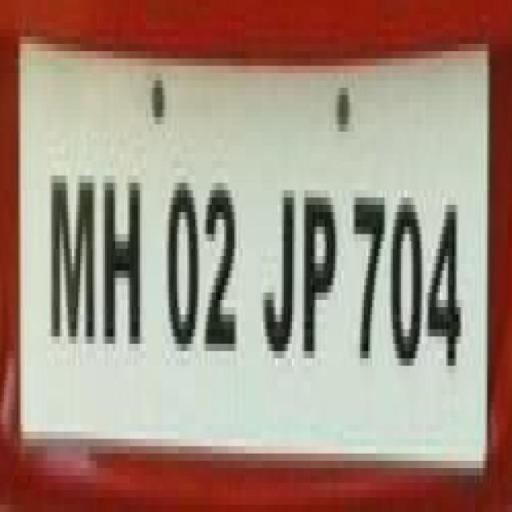number plate: (4, 36, 487, 490)
